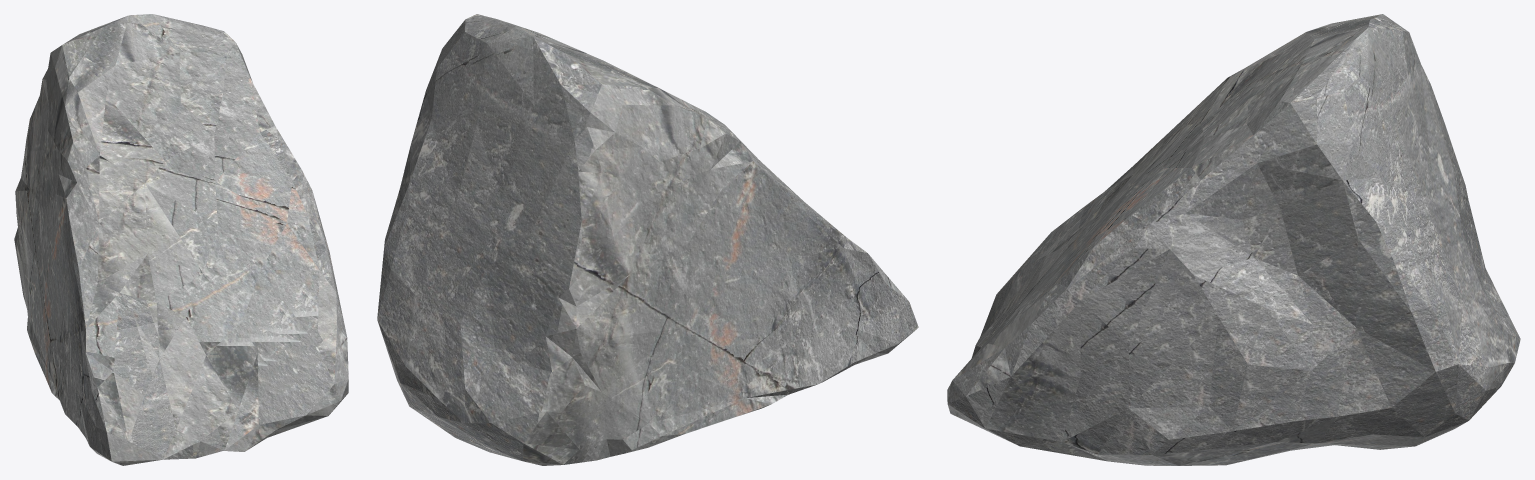
File: Rock 2.obj
The picture shows the model from 3 angles, left to right: view 1: azimuth 30°, elevation 25°; view 2: azimuth 150°, elevation 25°; view 3: azimuth 270°, elevation 25°; orthographic projection. The views are drawn at different scales.
Visible parts, largest first — view 1: Mesh1 skp2CB1 Model; view 2: Mesh1 skp2CB1 Model; view 3: Mesh1 skp2CB1 Model.
Part boxes in pixels (left/top/right/bottom): Mesh1 skp2CB1 Model: left=14, top=14, right=348, bottom=465; Mesh1 skp2CB1 Model: left=377, top=14, right=918, bottom=465; Mesh1 skp2CB1 Model: left=947, top=14, right=1520, bottom=465.
Size of the model in its own units: 666 by 747 by 961.
Materials: 1 (1 with a texture image).
